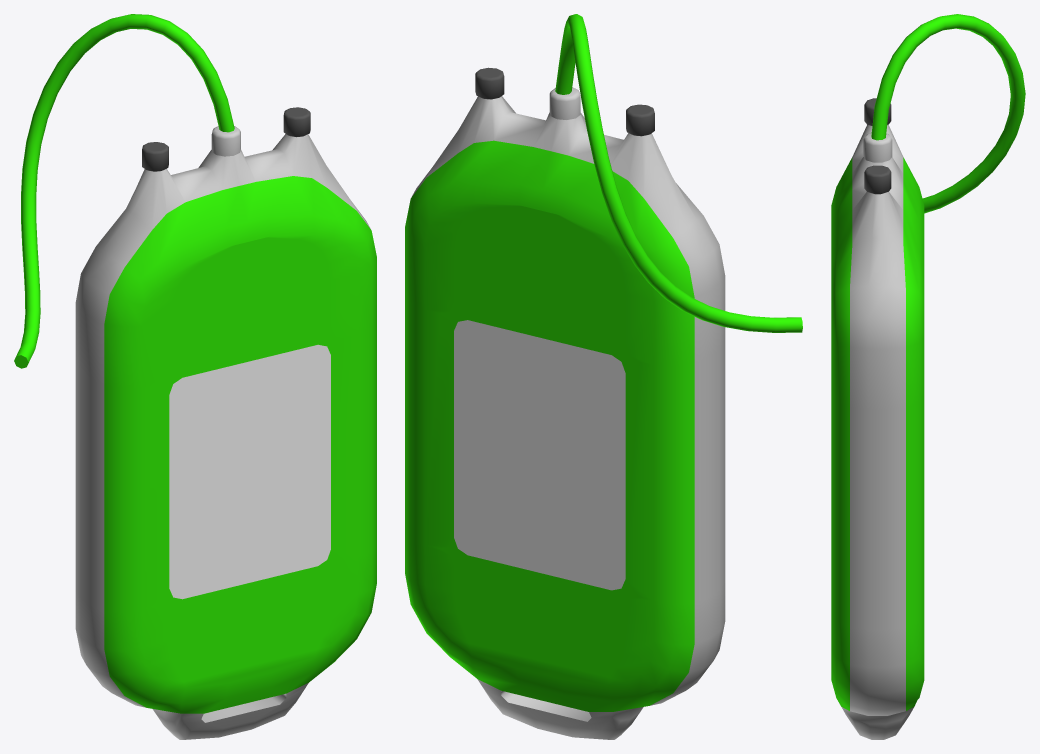
The model's file is HealthPack.fbx.
3 renders of one model, left to right at view 1: azimuth 30°, elevation 25°; view 2: azimuth 150°, elevation 25°; view 3: azimuth 270°, elevation 25°, orthographic. The views are drawn at different scales.
Visible parts, largest first — view 1: HealthPack; view 2: HealthPack; view 3: HealthPack.
Boxes of the visible parts, x1,y1,x2,y2 form: HealthPack: (14,14,376,739); HealthPack: (405,14,802,739); HealthPack: (831,14,1025,739).
Size of the model in its own units: 62.44 by 117 by 30.1.
